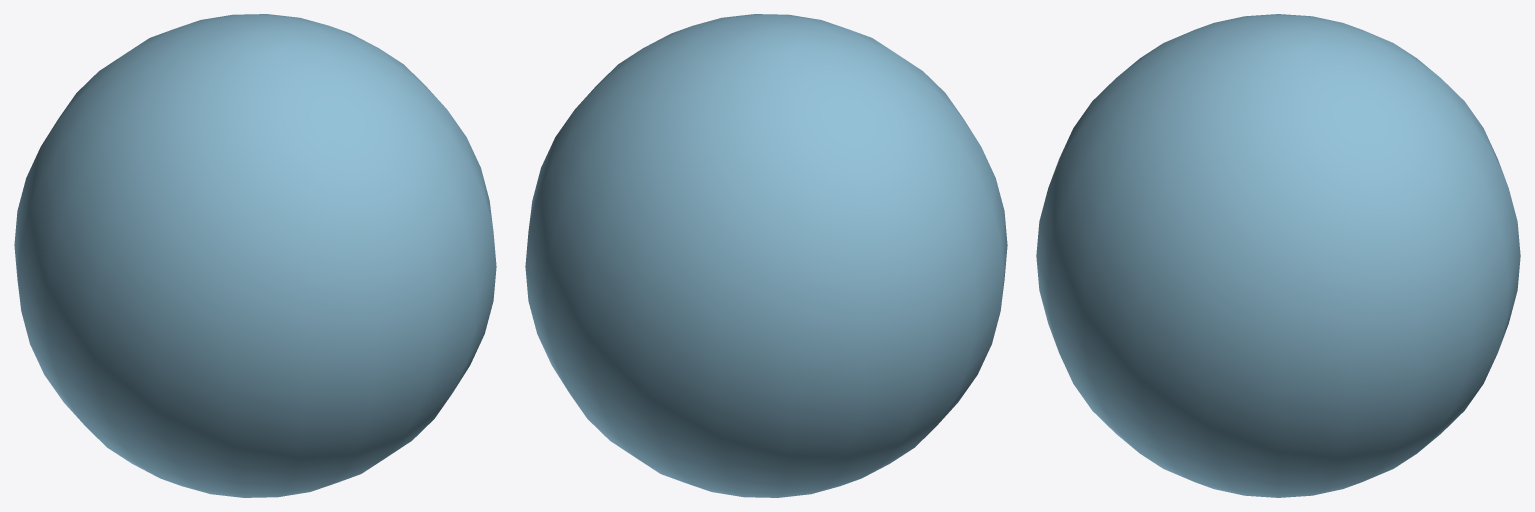
Rendered from Coin.fbx.
The picture shows the model from 3 angles, left to right: view 1: azimuth 30°, elevation 25°; view 2: azimuth 150°, elevation 25°; view 3: azimuth 270°, elevation 25°; orthographic projection.
Parts seen in each view (by area): view 1: pSphere1; view 2: pSphere1; view 3: pSphere1.
Boxes of the visible parts, box(x1,y1,x2,y2) form: pSphere1: box(14, 14, 496, 497); pSphere1: box(525, 14, 1007, 497); pSphere1: box(1036, 14, 1520, 497).
Size of the model in its own units: 3.32 by 3.32 by 3.32.
